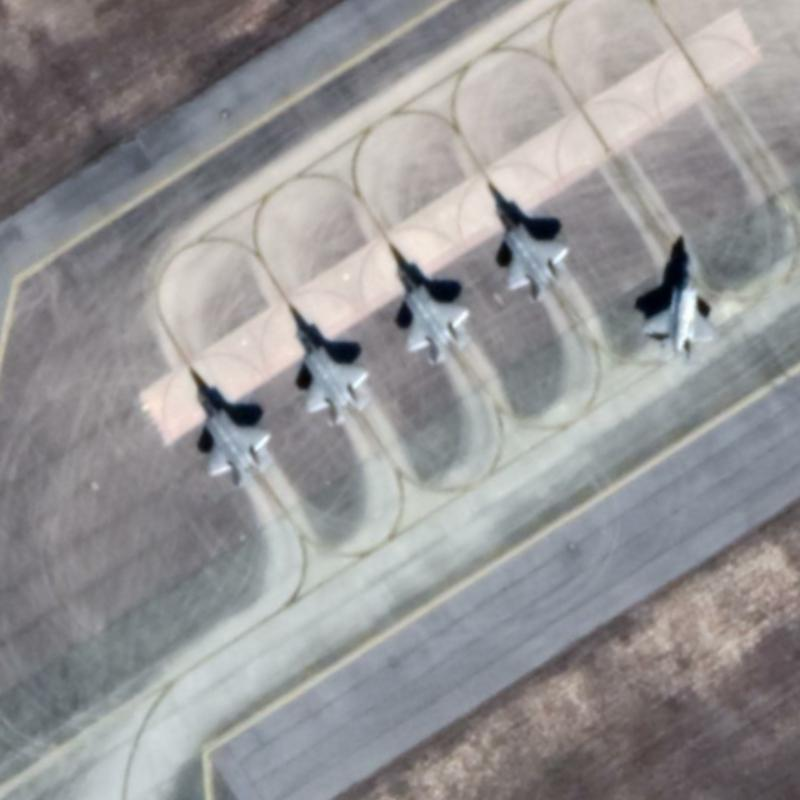A15: (629, 244, 725, 366), (486, 188, 576, 304), (388, 250, 476, 367), (287, 316, 372, 434), (189, 376, 275, 483)
